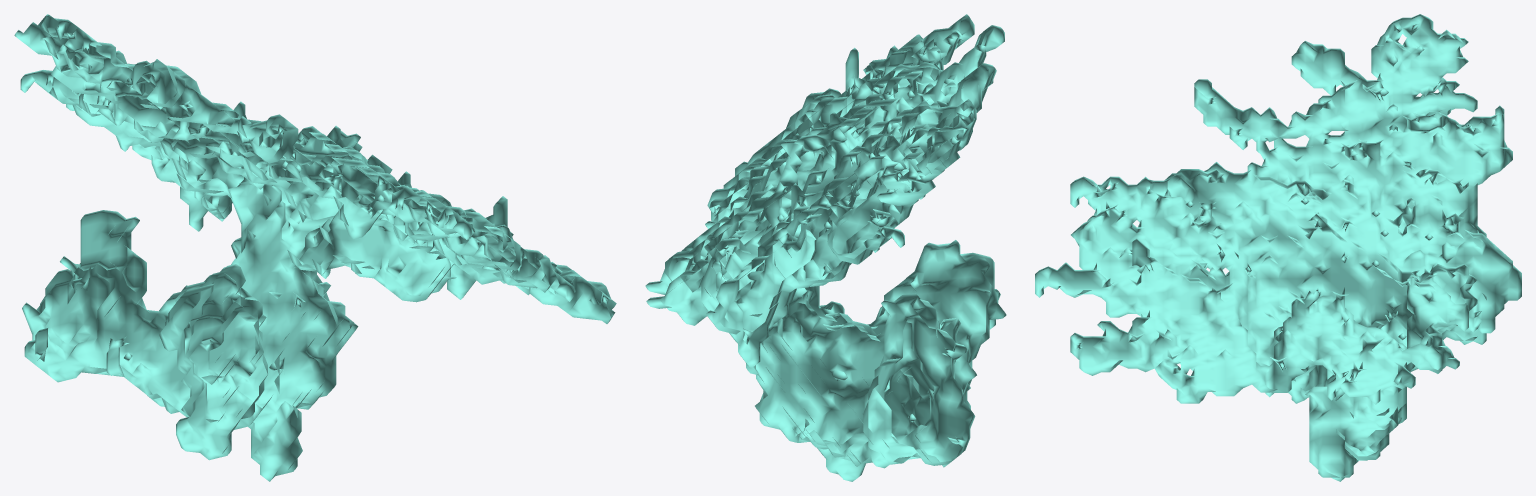
The model's file is osteocyte_29.glb.
The picture shows the model from 3 angles, left to right: view 1: azimuth 30°, elevation 25°; view 2: azimuth 150°, elevation 25°; view 3: azimuth 270°, elevation 25°; orthographic projection. The views are drawn at different scales.
Parts seen in each view (by area): view 1: osteocyte_29; view 2: osteocyte_29; view 3: osteocyte_29.
Part boxes in pixels (x1,y1,x2,y2): osteocyte_29: (14, 14, 616, 481); osteocyte_29: (645, 14, 1006, 481); osteocyte_29: (1035, 14, 1521, 481).
Size of the model in its own units: 20.7 by 23.59 by 26.48.
